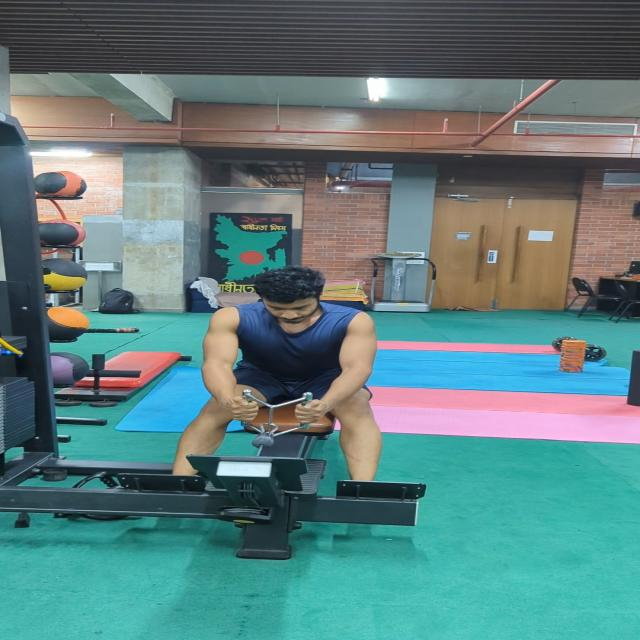Normal_RowingMachineExercise: (166, 264, 382, 485)
